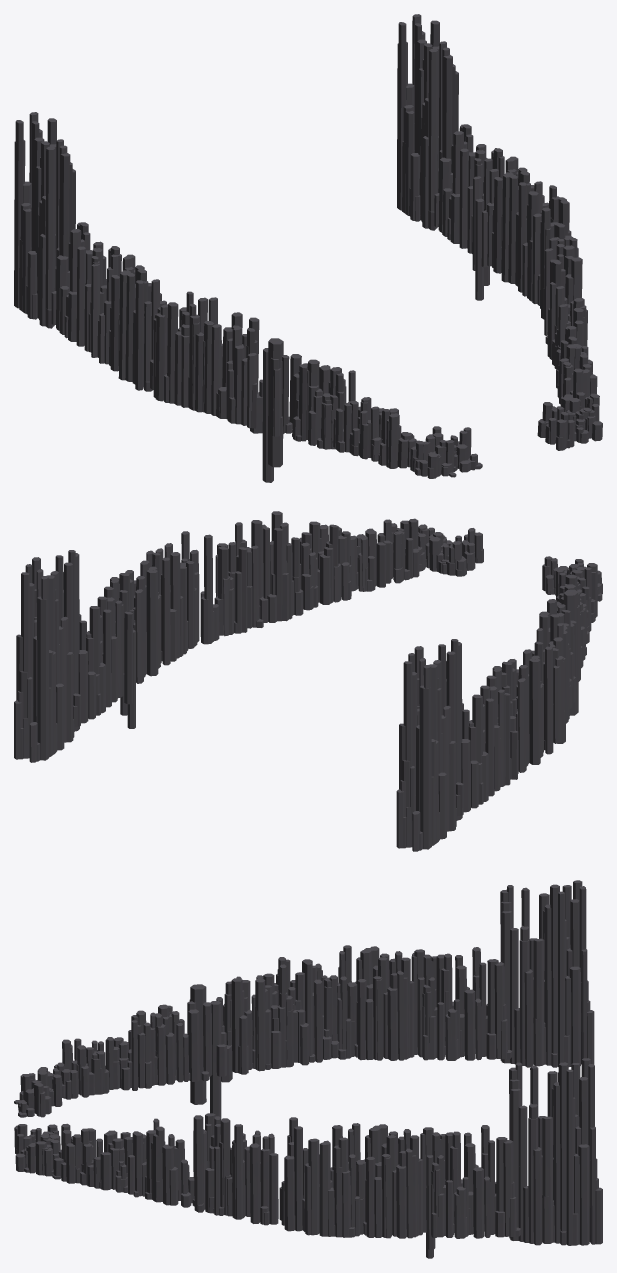
The model's file is walls1.0.gltf.
The picture shows the model from 3 angles, top to bottom: view 1: azimuth 30°, elevation 25°; view 2: azimuth 150°, elevation 25°; view 3: azimuth 270°, elevation 25°; orthographic projection. The views are drawn at different scales.
Visible parts, largest first — view 1: basalt walls realized.867; view 2: basalt walls realized.867; view 3: basalt walls realized.867.
Boxes of the visible parts, bbox=[...] form: basalt walls realized.867: bbox=[14, 14, 602, 482]; basalt walls realized.867: bbox=[14, 511, 602, 851]; basalt walls realized.867: bbox=[14, 880, 602, 1258].
Bounding box in the file's own units: 139 × 74.43 × 178.
Materials: 1 (1 with a texture image).
